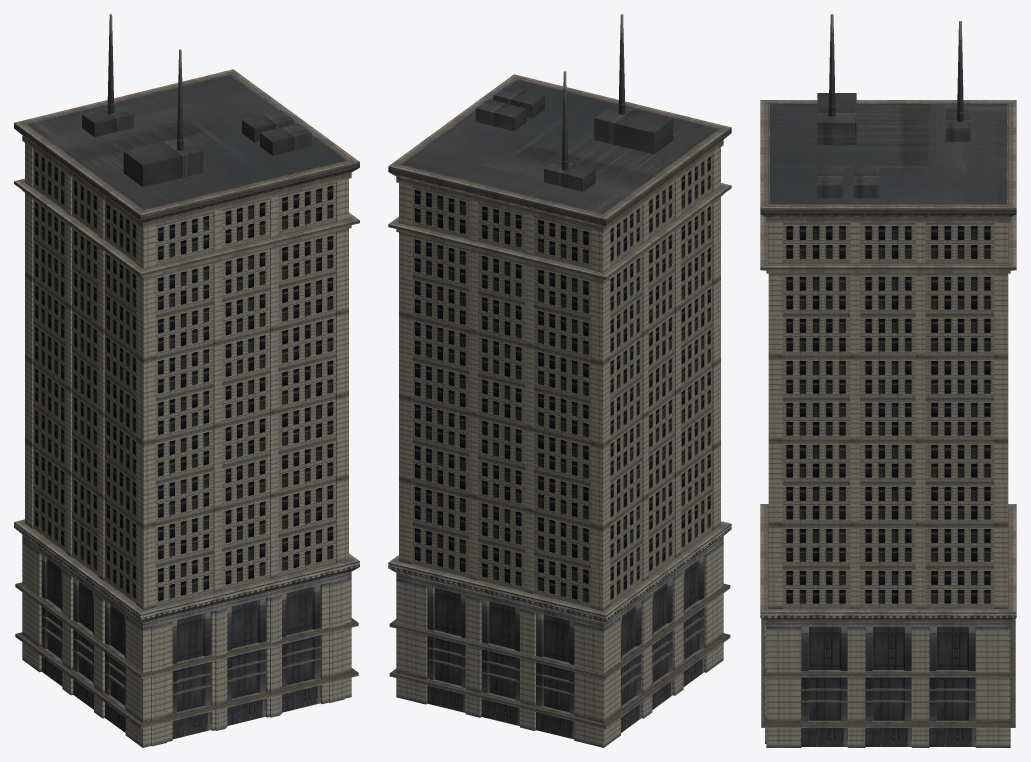
File: downtown_modernoffice_5.glb
The picture shows the model from 3 angles, left to right: view 1: azimuth 30°, elevation 25°; view 2: azimuth 150°, elevation 25°; view 3: azimuth 270°, elevation 25°; orthographic projection.
Visible parts, largest first — view 1: Downtown_ModernOffice_5_Downtown_Facade_FLR_4_0, Downtown_ModernOffice_5_Downtown_Modern_Firstfloor_FLR_1_0; view 2: Downtown_ModernOffice_5_Downtown_Facade_FLR_4_0, Downtown_ModernOffice_5_Downtown_Modern_Firstfloor_FLR_1_0; view 3: Downtown_ModernOffice_5_Downtown_Facade_FLR_4_0, Downtown_ModernOffice_5_Downtown_Modern_Firstfloor_FLR_1_0.
Boxes of the visible parts, x1,y1,x2,y2 form: Downtown_ModernOffice_5_Downtown_Facade_FLR_4_0: [14, 69, 359, 747]; Downtown_ModernOffice_5_Downtown_Modern_Firstfloor_FLR_1_0: [27, 14, 346, 739]; Downtown_ModernOffice_5_Downtown_Facade_FLR_4_0: [388, 74, 731, 747]; Downtown_ModernOffice_5_Downtown_Modern_Firstfloor_FLR_1_0: [401, 14, 718, 739]; Downtown_ModernOffice_5_Downtown_Facade_FLR_4_0: [760, 100, 1016, 747]; Downtown_ModernOffice_5_Downtown_Modern_Firstfloor_FLR_1_0: [770, 14, 1006, 746].
Size of the model in its own units: 35.7 by 102 by 35.7.
Materials: 2 (2 with a texture image).
